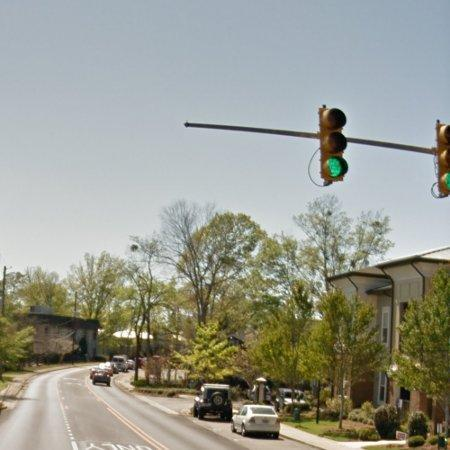traffic lights: (318, 105, 348, 181)
